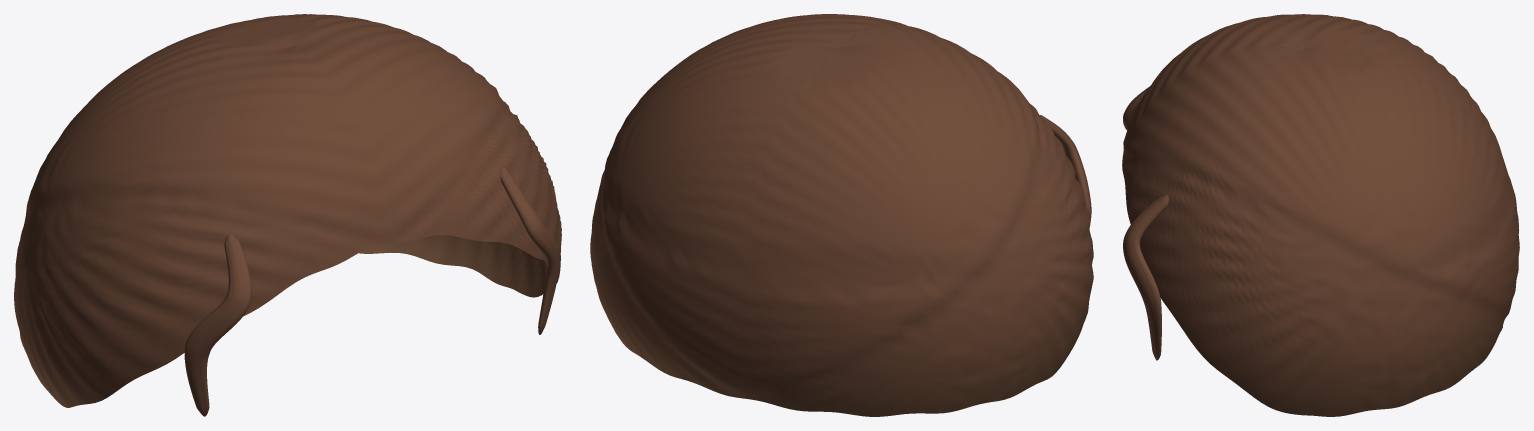
File: Ombre-2040dfdb3eb7253-hair.glb
3 views of the same model, side by side, from view 1: azimuth 30°, elevation 25°; view 2: azimuth 150°, elevation 25°; view 3: azimuth 270°, elevation 25° (orthographic). The views are drawn at different scales.
Parts seen in each view (by area): view 1: 226 hair / Hair / chestnut226.002; view 2: 226 hair / Hair / chestnut226.002; view 3: 226 hair / Hair / chestnut226.002.
Part boxes in pixels (<box>): 226 hair / Hair / chestnut226.002: <box>14,14,561,416</box>; 226 hair / Hair / chestnut226.002: <box>590,14,1093,416</box>; 226 hair / Hair / chestnut226.002: <box>1122,14,1519,416</box>.
Bounding box in the file's own units: 0.9981 × 0.5988 × 0.7846.
1 material, 1 textured.
